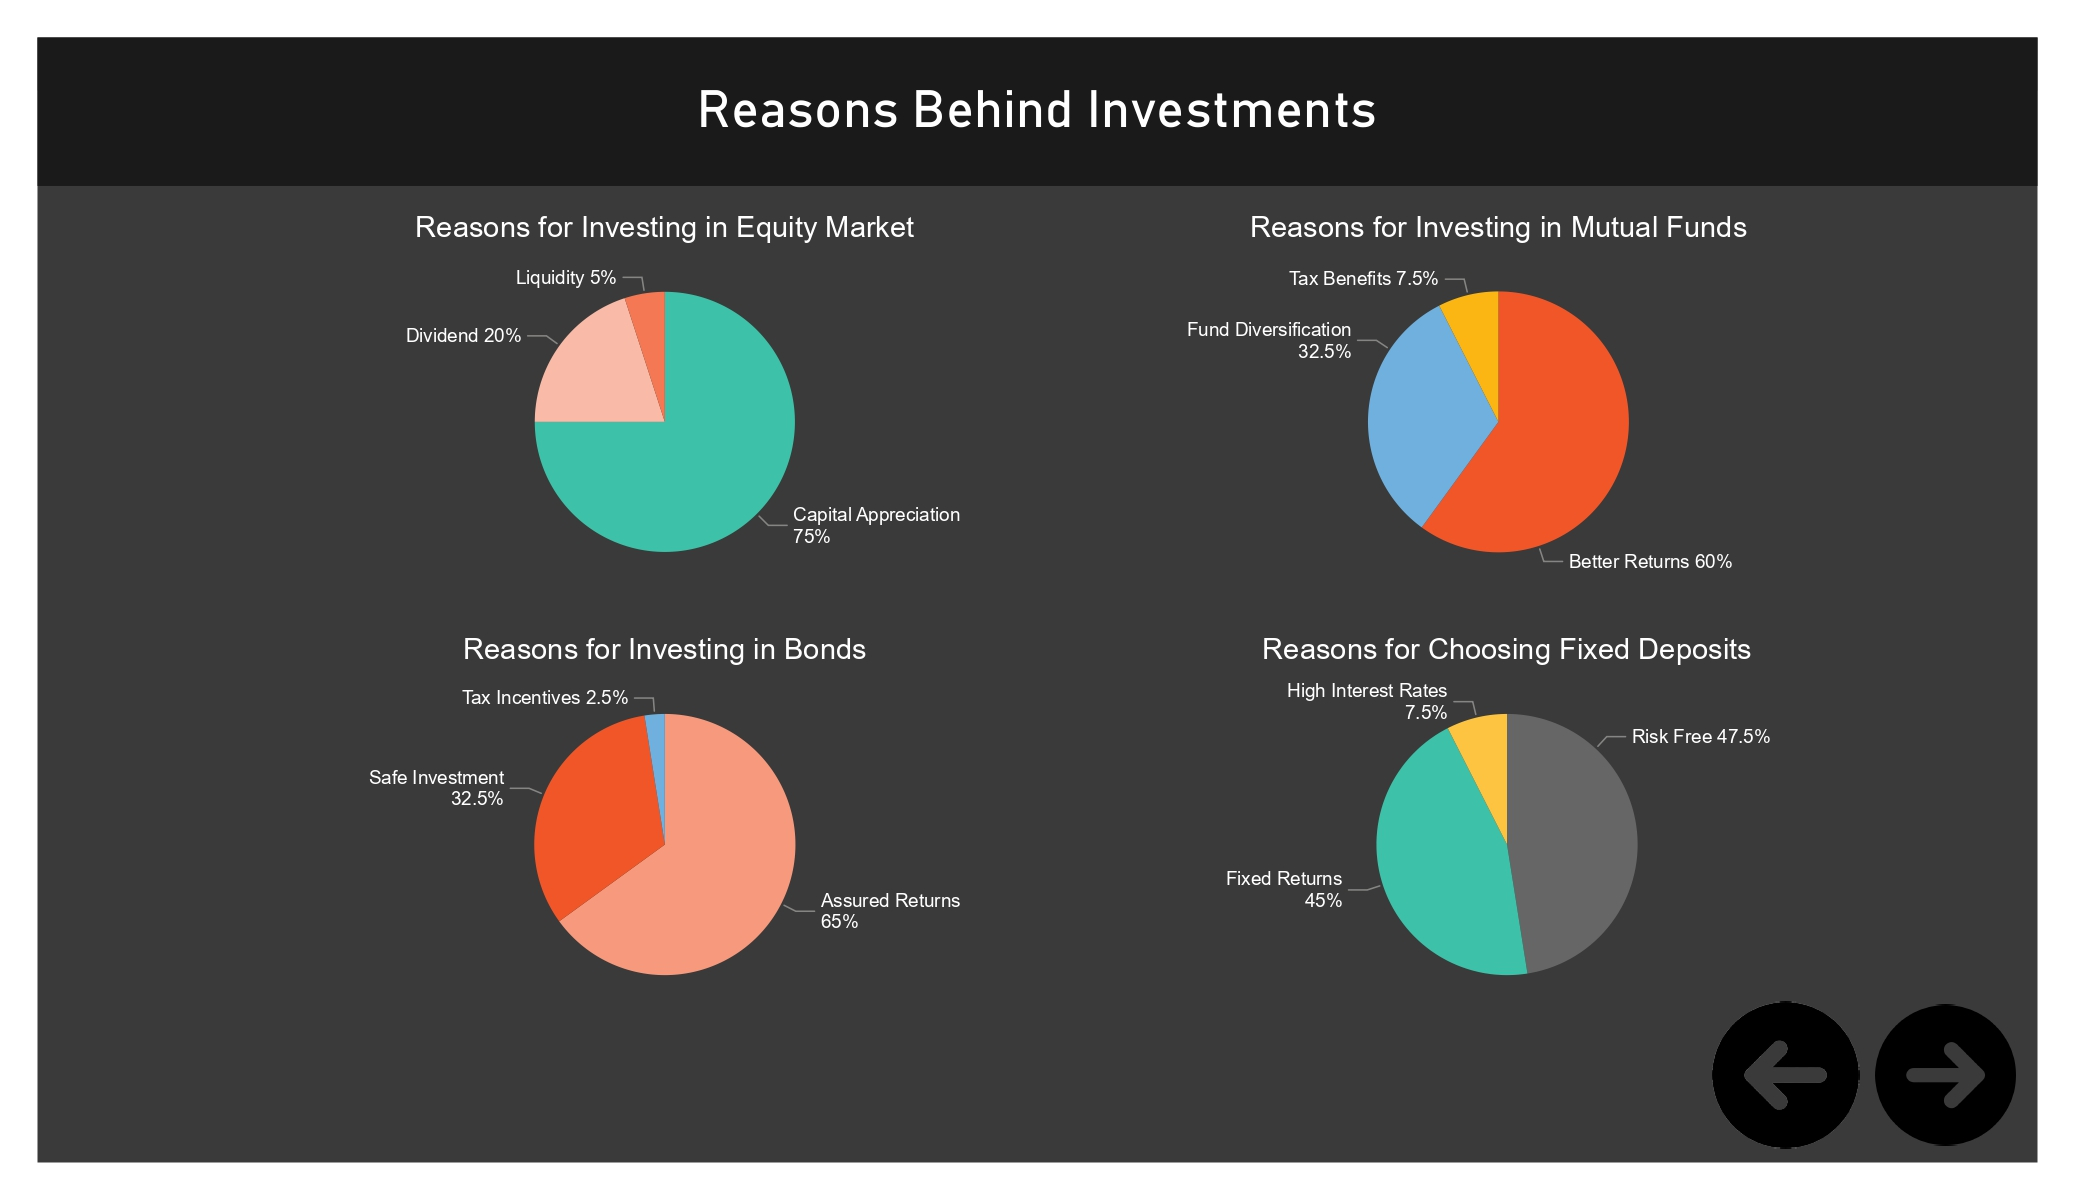

Layout of this report page (visuals, bound fields, positions):
{"tool":"powerbi","page":{"name":"Reasons Behind Investments","canvas":[1280,720],"ordinal":2},"visuals":[{"type":"shape","box":[0,0,1280,95],"z":0},{"type":"textbox","title":"Finance Data Analyst","box":[367.4,20.5,545.2,56.4],"z":1000},{"type":"pieChart","title":"Reasons for Investing in Bonds","fields":{"Category":["Finance_data.Reason_Bonds"],"Y":["CountNonNull(Finance_data.RespondentID)"]},"box":[198.4,381.3,406.8,249.4],"z":2000},{"type":"pieChart","title":"Reasons for Investing in Equity Market","fields":{"Y":["CountNonNull(Finance_data.RespondentID)"],"Category":["Finance_data.Reason_Equity"]},"box":[198.4,110.6,406.8,249.4],"z":3000},{"type":"pieChart","title":"Reasons for Choosing Fixed Deposits","fields":{"Y":["CountNonNull(Finance_data.RespondentID)"],"Category":["Finance_data.Reason_FD"]},"box":[737,381.3,406.8,249.4],"z":4000},{"type":"pieChart","title":"Reasons for Investing in Mutual Funds","fields":{"Y":["CountNonNull(Finance_data.RespondentID)"],"Category":["Finance_data.Reason_Mutual"]},"box":[725.7,110.6,418.1,249.4],"z":5000},{"type":"image","box":[1170.9,606.6,100.6,113.4],"z":6000},{"type":"image","box":[1067.4,606.6,103.5,113.4],"z":7000}]}

Visuals, with their boxes on the page's 1280x720 design canvas (x1, y1, x2, y2). These are canvas units, not pixel positions in the 2075x1200 screenshot, which may show the page scaled, cropped or inside an application window:
shape: (0, 0, 1280, 95)
"Finance Data Analyst" textbox: (367, 20, 913, 77)
"Reasons for Investing in Bonds" pieChart: (198, 381, 605, 631)
"Reasons for Investing in Equity Market" pieChart: (198, 111, 605, 360)
"Reasons for Choosing Fixed Deposits" pieChart: (737, 381, 1144, 631)
"Reasons for Investing in Mutual Funds" pieChart: (726, 111, 1144, 360)
image: (1171, 607, 1272, 720)
image: (1067, 607, 1171, 720)
